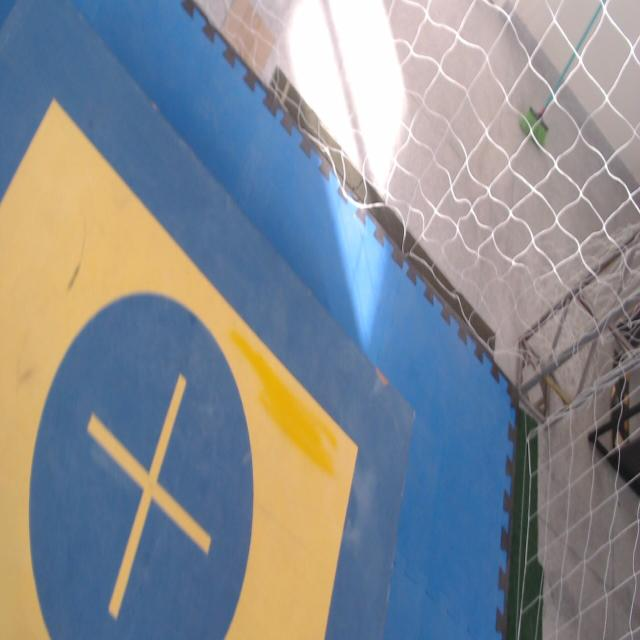base_inicio: (0, 98, 358, 639)
